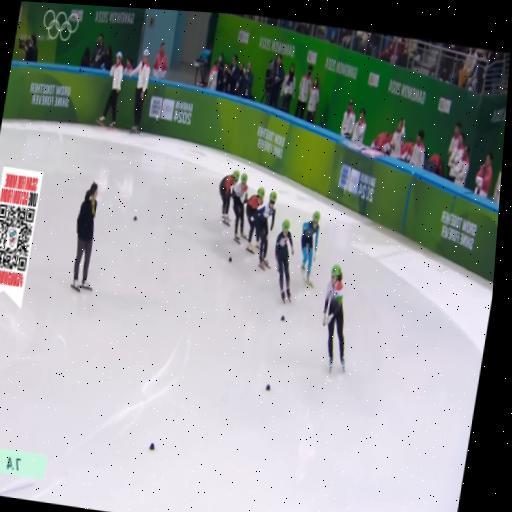Skater: (322, 265, 344, 371), (254, 192, 276, 269), (274, 220, 293, 301), (300, 211, 319, 287), (244, 187, 263, 253), (231, 174, 247, 242), (219, 171, 238, 223)
